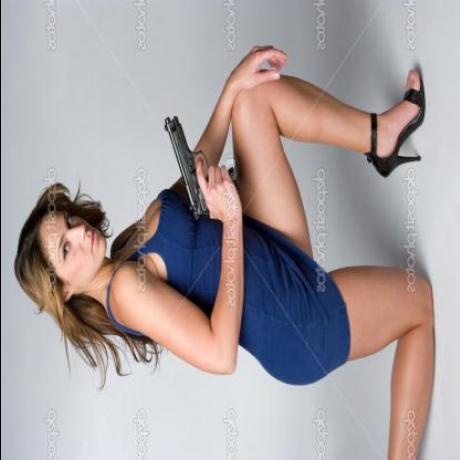1: (8, 49, 454, 457)
weapon: (157, 114, 251, 222)
